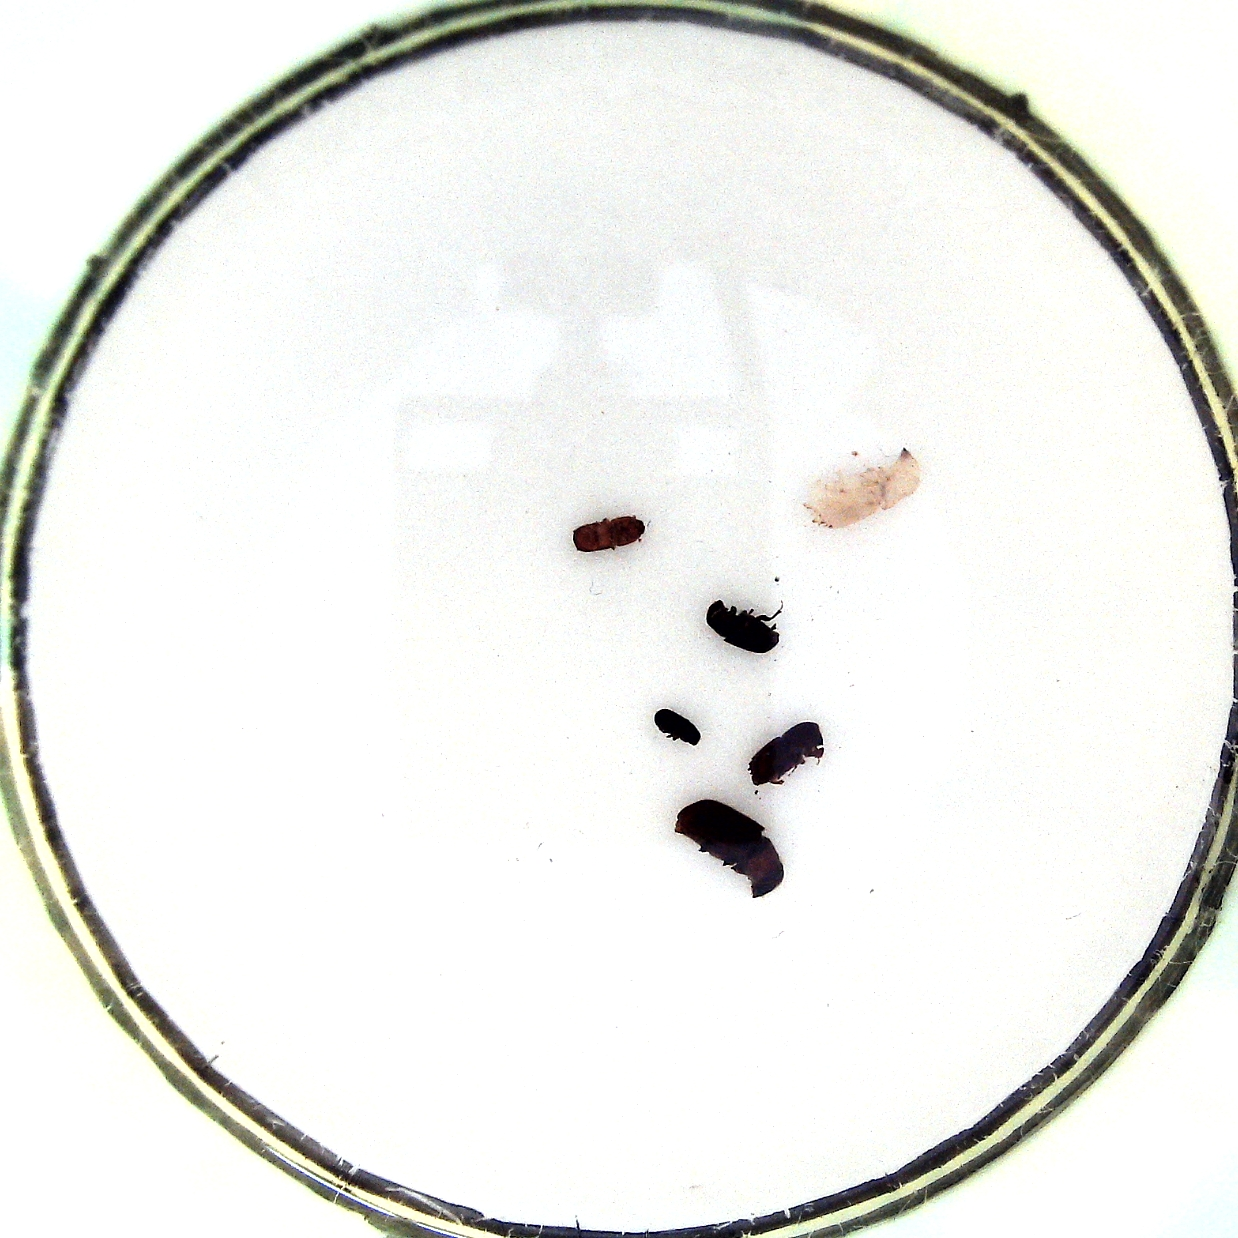Boerner: (804, 447, 923, 537)
Leconte: (667, 794, 785, 896)
Linnaeus: (746, 716, 830, 786)
acuminatus: (567, 516, 648, 558)
armandi: (702, 597, 785, 652)
coleoptera: (644, 706, 709, 748)
